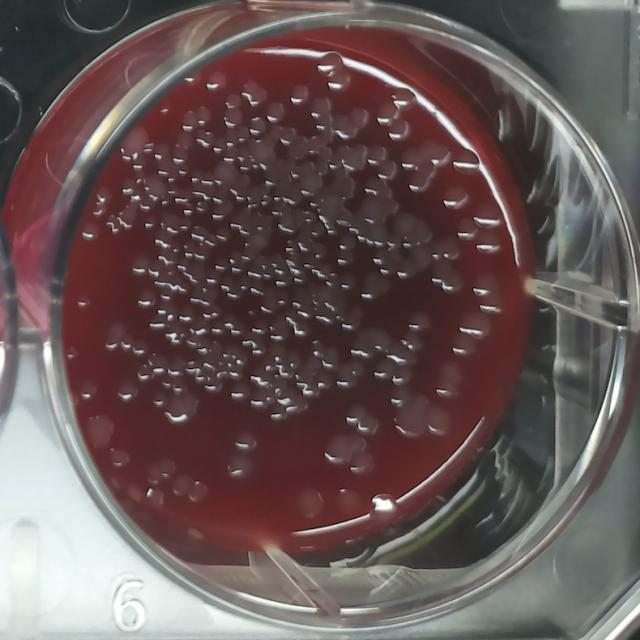Vibrio: (164, 388, 200, 428), (456, 306, 494, 342), (292, 486, 328, 522), (84, 412, 117, 451), (223, 449, 258, 484), (322, 431, 355, 468), (439, 180, 472, 214), (472, 199, 506, 232), (451, 145, 483, 179), (346, 448, 378, 480), (423, 405, 454, 438), (448, 331, 480, 361), (232, 426, 260, 454), (386, 117, 412, 145), (186, 477, 210, 506), (134, 285, 158, 310)
